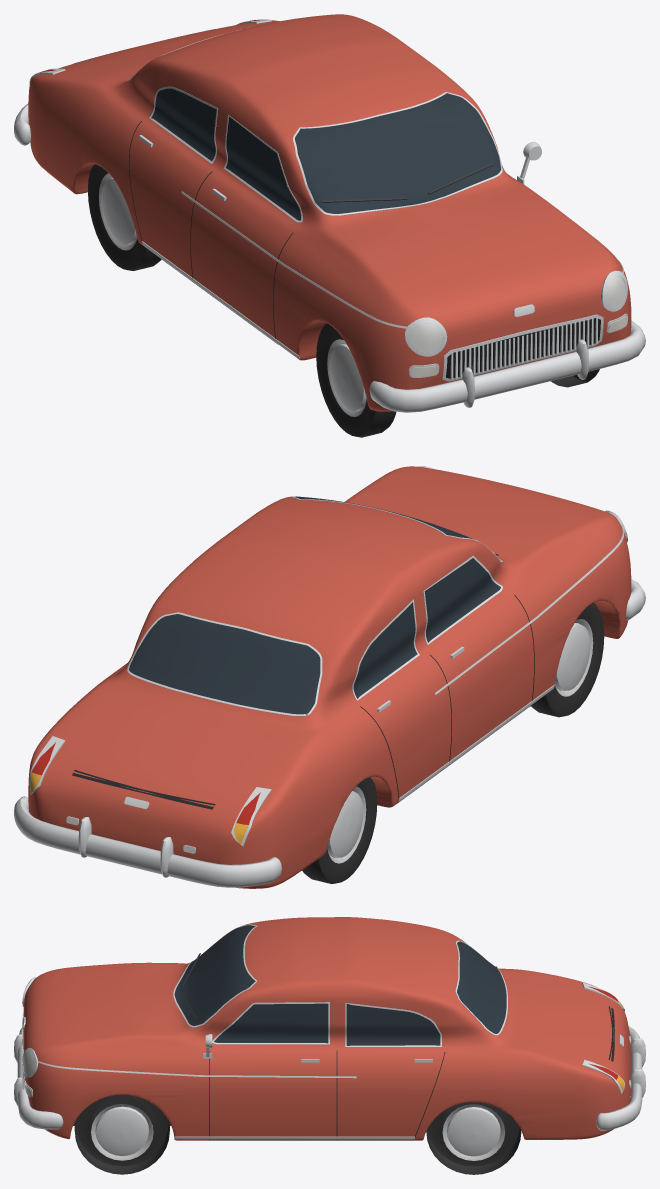
Rendered from gaz21.glb.
3 renders of one model, top to bottom at view 1: azimuth 30°, elevation 25°; view 2: azimuth 150°, elevation 25°; view 3: azimuth 270°, elevation 25°, orthographic. The views are drawn at different scales.
Parts seen in each view (by area): view 1: paint, glass, trim, wheel_fr, wheel_rr, headlights; view 2: paint, glass, trim, wheel_fr, wheel_rr, taillights; view 3: paint, glass, trim, wheel_fl, wheel_rl.
Boxes of the visible parts, box(x1,y1,x2,y2) form: paint: box(28, 14, 631, 411); glass: box(128, 79, 500, 220); trim: box(14, 19, 645, 412); wheel_fr: box(316, 323, 396, 437); wheel_rr: box(88, 164, 161, 270); headlights: box(411, 276, 625, 352); paint: box(28, 466, 631, 888); glass: box(129, 496, 500, 714); trim: box(14, 466, 645, 887); wheel_fr: box(531, 603, 604, 717); wheel_rr: box(302, 777, 377, 883); taillights: box(32, 742, 260, 824); paint: box(23, 917, 630, 1140); glass: box(174, 925, 506, 1045); trim: box(14, 924, 645, 1140); wheel_fl: box(74, 1095, 169, 1174); wheel_rl: box(426, 1104, 521, 1174).
Bounding box in the file's own units: 1.84 × 1.61 × 4.85.
